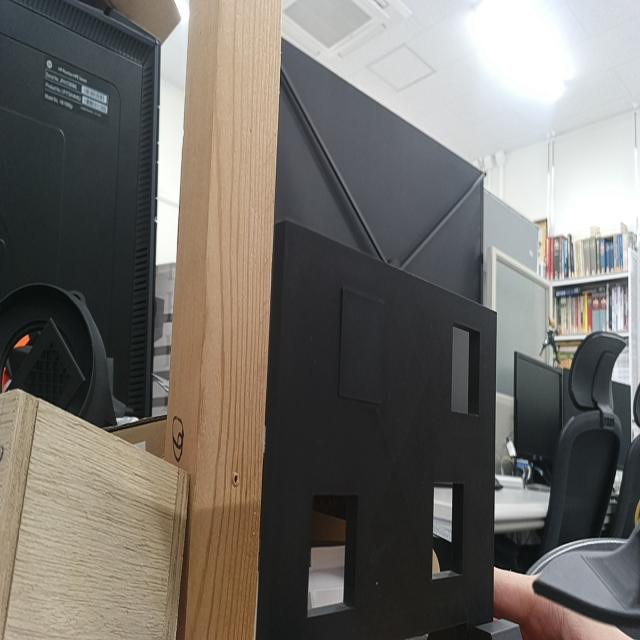Obstacle: (307, 496, 354, 618), (433, 481, 464, 580), (453, 323, 479, 413)
Wall: (268, 222, 496, 639)
